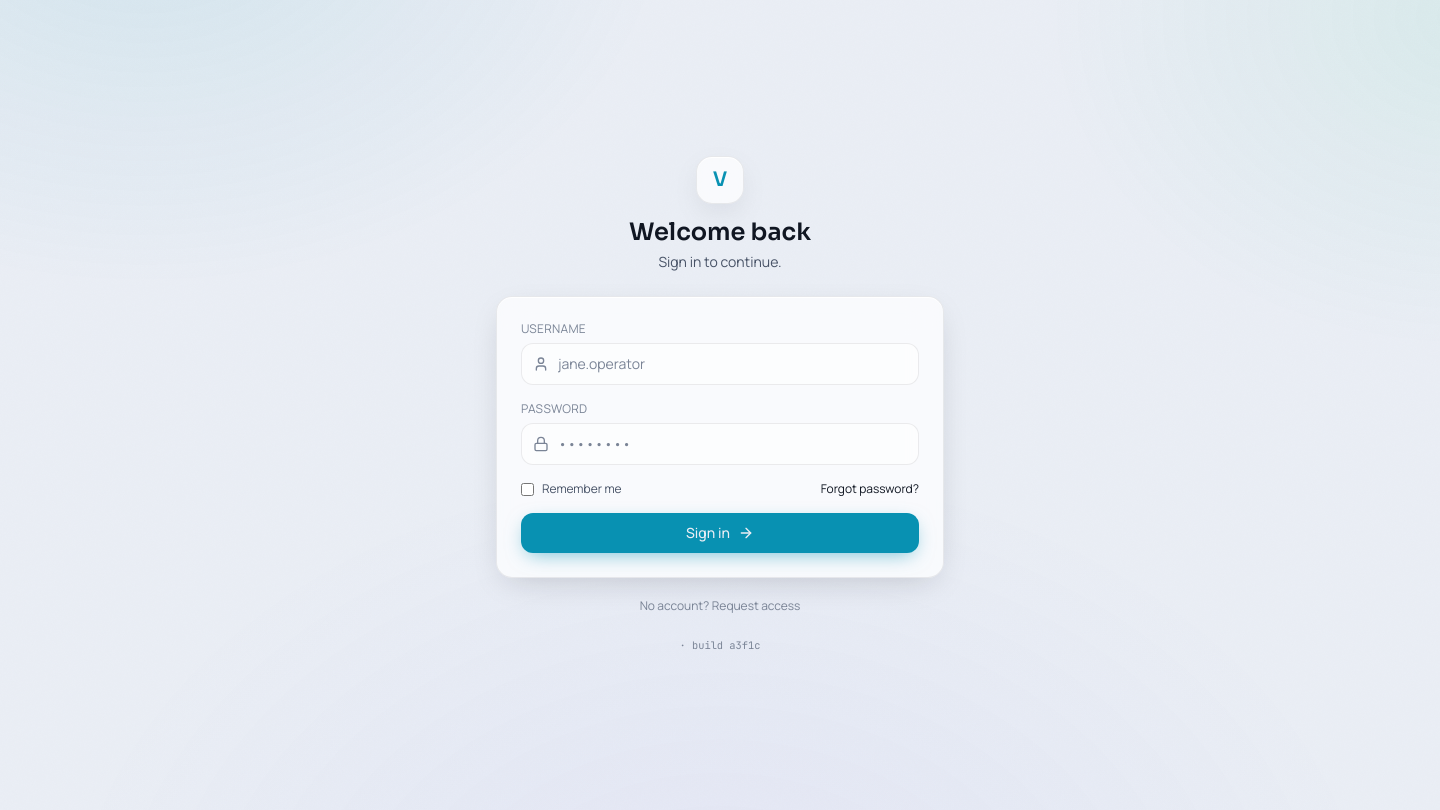
it: LoginPage › Form Validation › shows a combined error when submitting with an empty username
Click the button "Sign in" at point(720, 533), box 521,513 -> 919,553
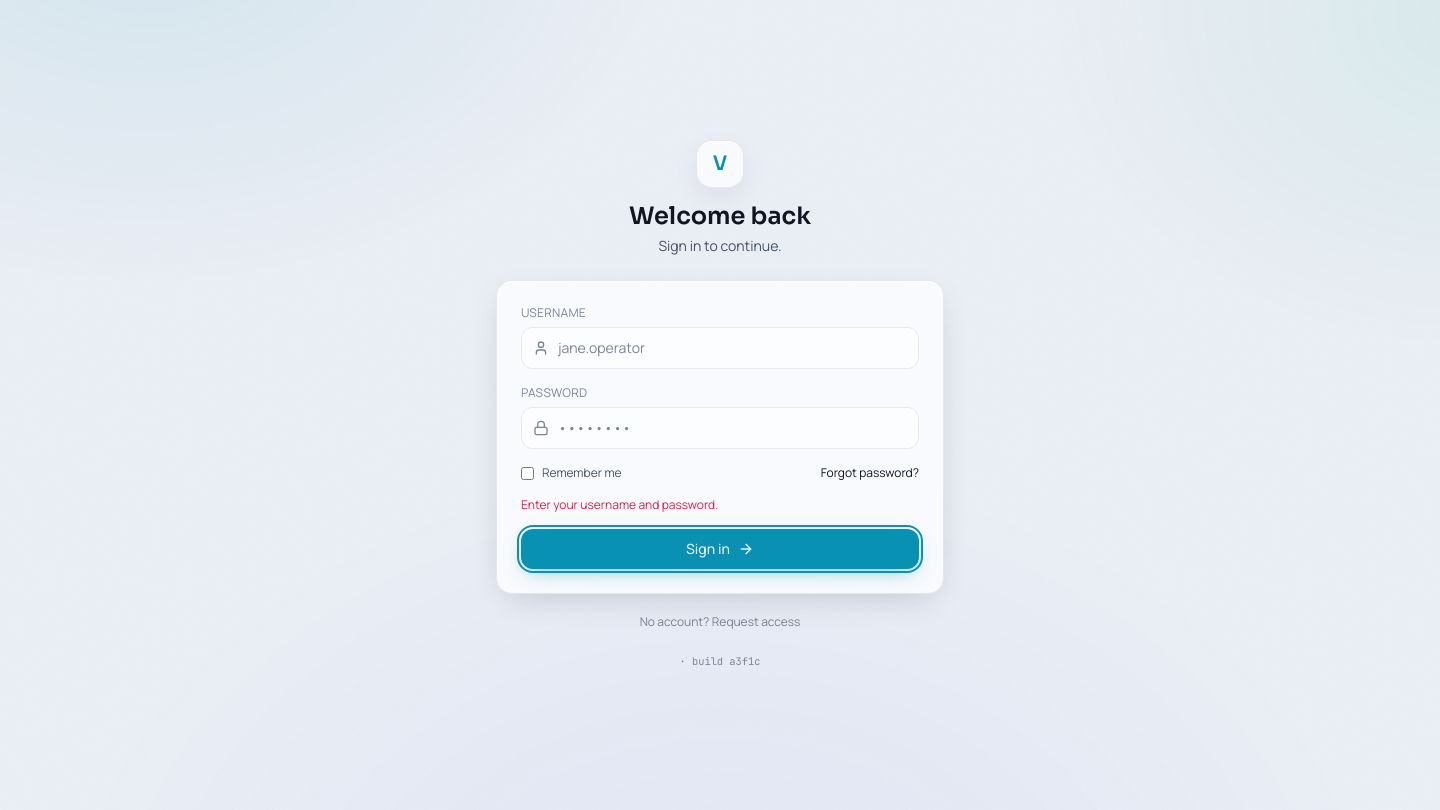
Now the text "Enter your username and password." is shown, box 521,496 -> 718,513
